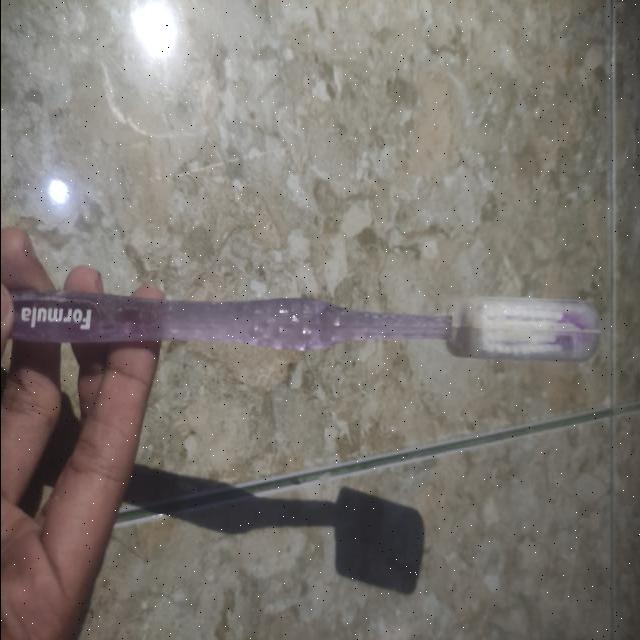toothbrush: (0, 272, 604, 401)
